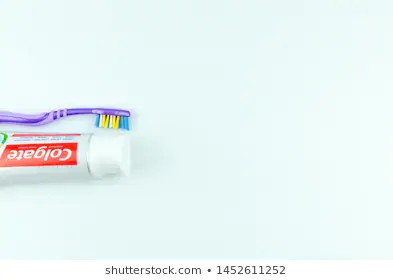toothbrush: (1, 106, 136, 135)
